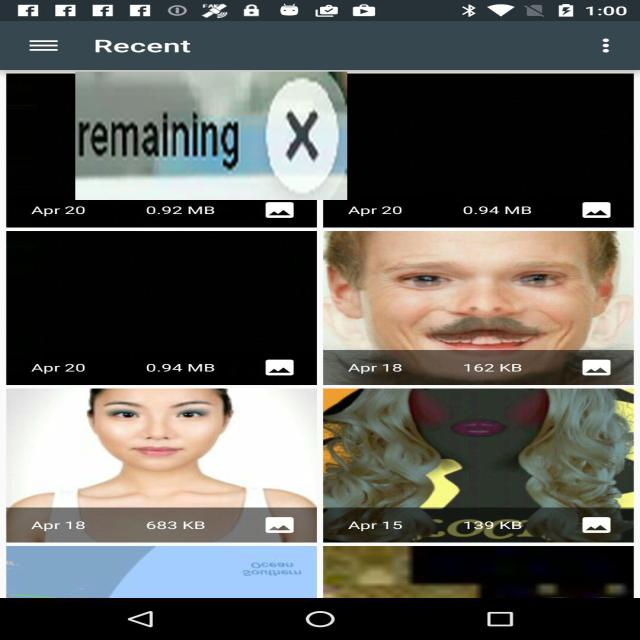misdirection: (75, 72, 348, 200)
